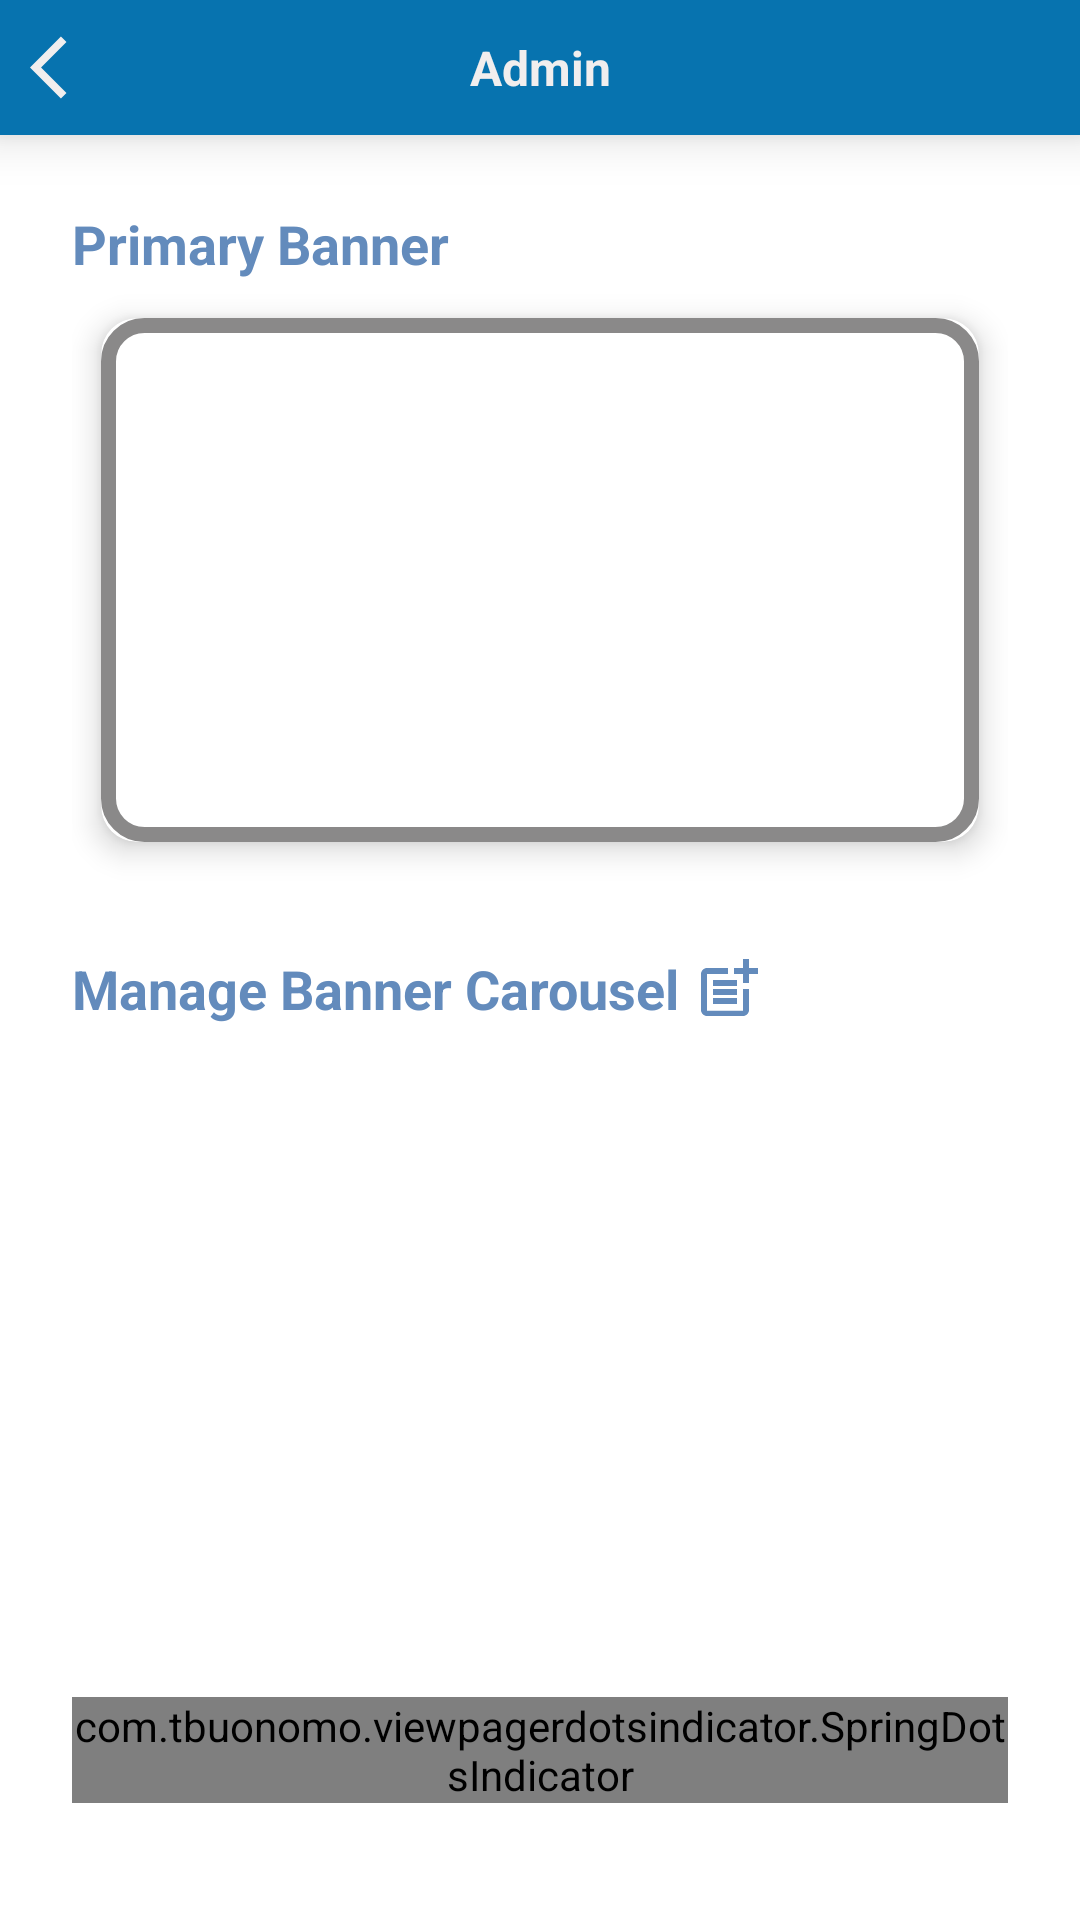

Icons on this 1080px x 1920px Android screen, each with its box as region(x1, y1, x2, y2):
arrow back: region(30, 36, 67, 99)
post add: region(701, 959, 758, 1016)
